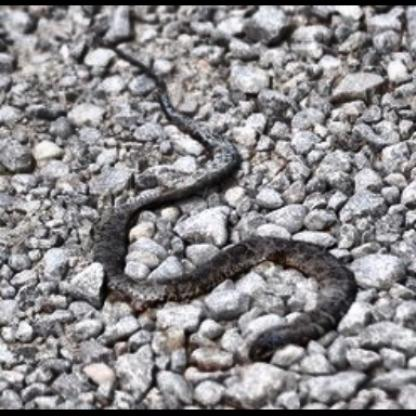Snake: (6, 14, 416, 386)
